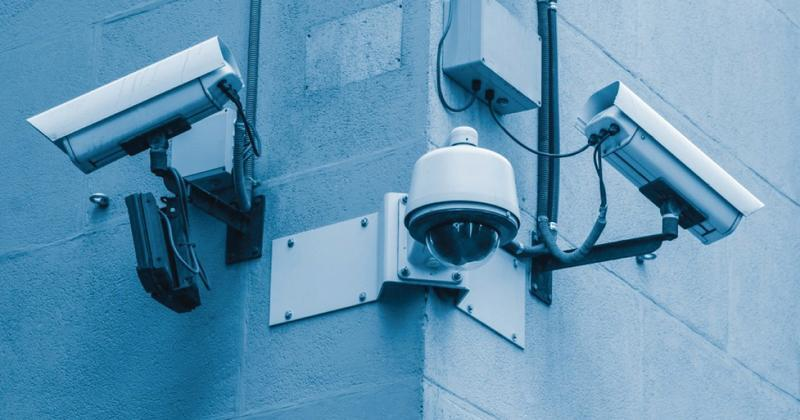box: (17, 116, 239, 192), (557, 118, 633, 336)
dome: (400, 144, 522, 267)
